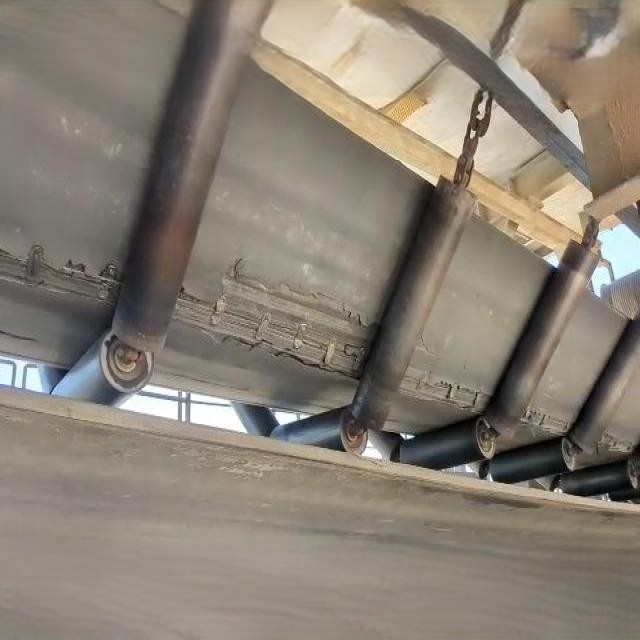Tear: (175, 254, 375, 384), (0, 234, 135, 306), (398, 357, 496, 417)
